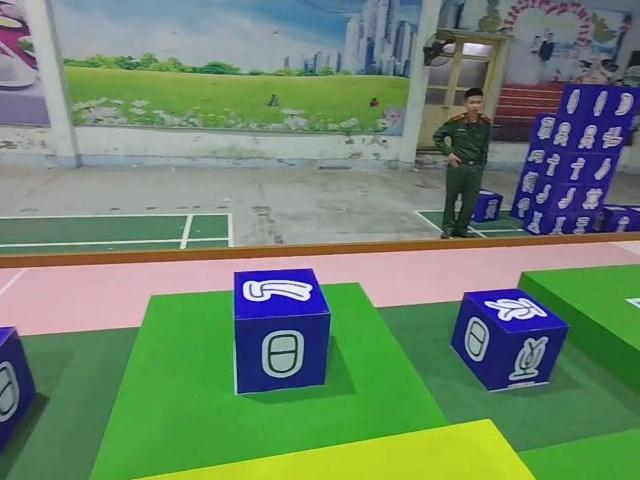R2 Fake Blue: (231, 269, 333, 396), (449, 288, 568, 393)
